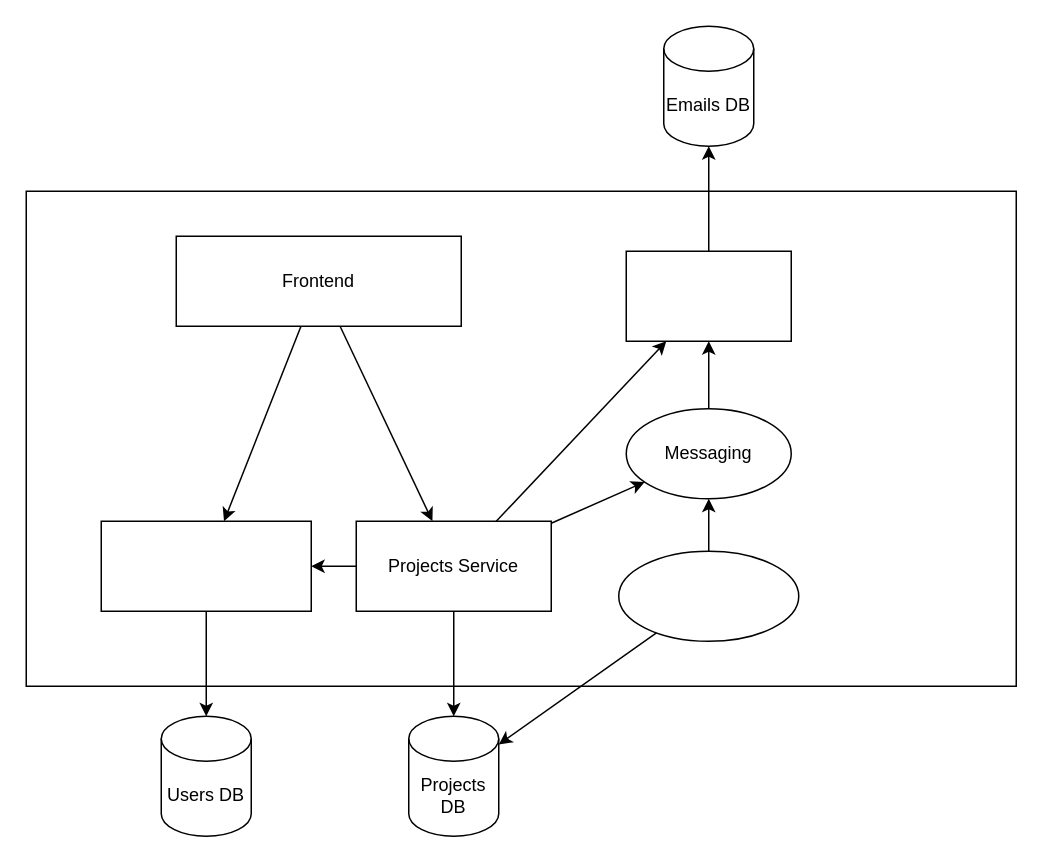
This 1043x863 diagram has some shape labels left out. Each missing label, with the centre of its shape:
"Emails/Notifications Service" belongs at [708,295].
"Projects Jobs" belongs at [708,595].
"Users Service" belongs at [205,565].
